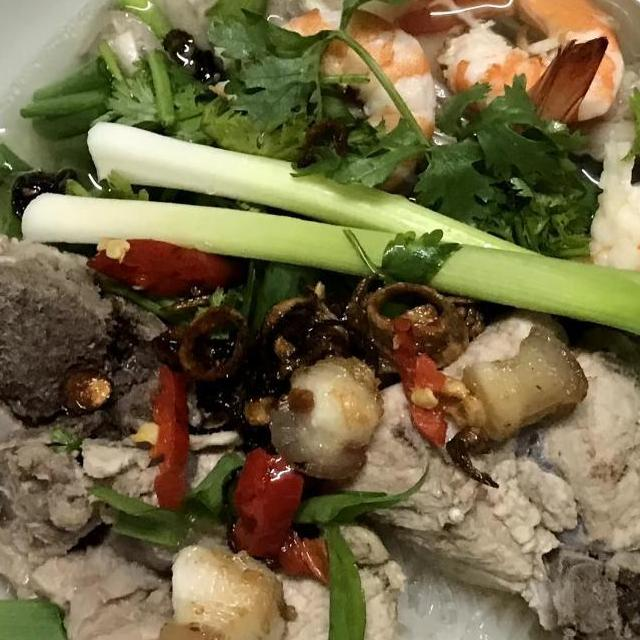banh hu tieu: (173, 514, 606, 640)
hu tieu: (0, 0, 640, 640)
thit heo: (0, 213, 415, 640), (284, 287, 640, 640)
tom: (211, 0, 441, 199), (392, 0, 637, 129)
trung: (577, 167, 640, 336)
